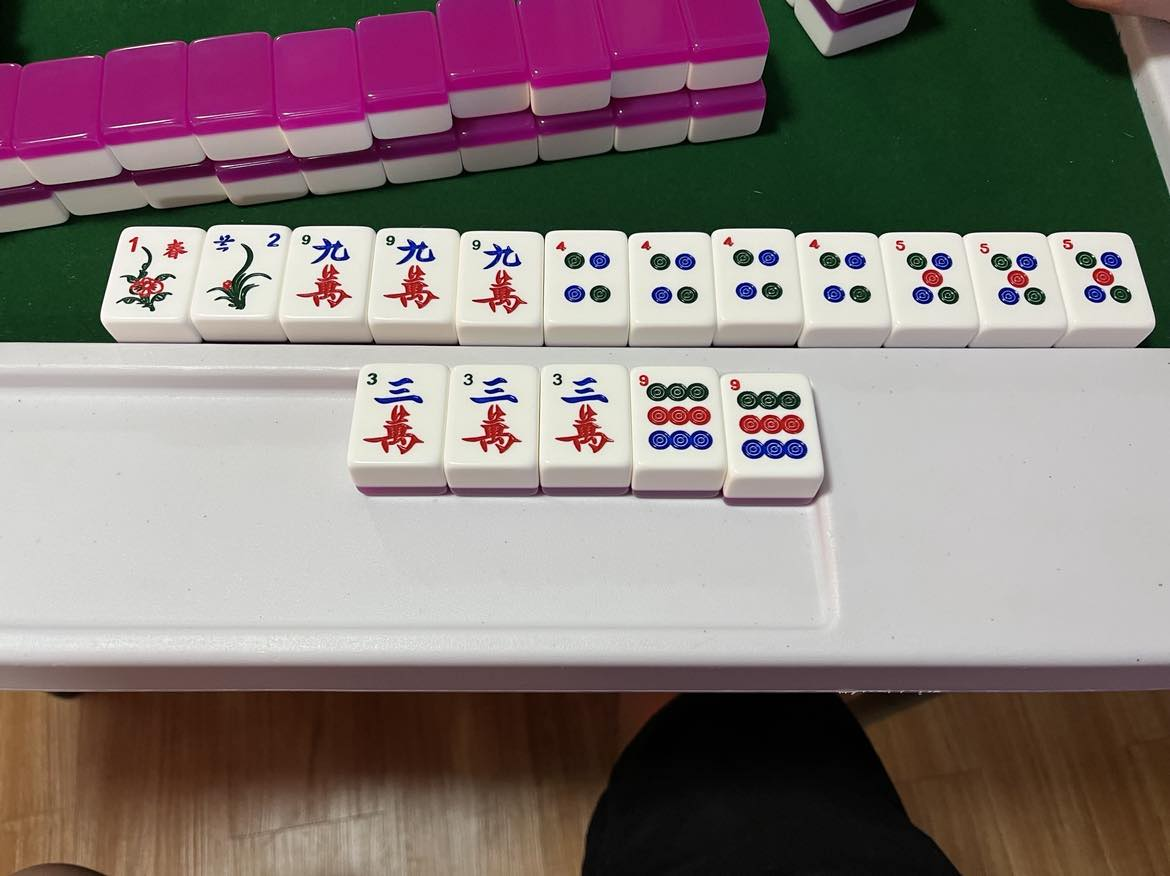character-nine: (292, 227, 360, 314), (463, 233, 532, 317), (379, 232, 445, 316)
character-three: (546, 368, 624, 464), (453, 369, 531, 462), (363, 368, 431, 460)
circle-five: (1058, 236, 1135, 315), (977, 238, 1048, 316), (891, 239, 962, 315)
circle-four: (549, 232, 625, 323), (633, 235, 709, 323), (719, 234, 792, 320), (805, 237, 880, 318)
circle-nine: (729, 377, 811, 465), (633, 373, 716, 459)
flower-blue_two: (207, 228, 282, 317)
flower-red_one: (114, 229, 192, 315)
